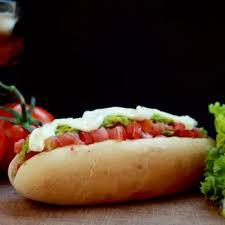Completos: (4, 102, 218, 208)
